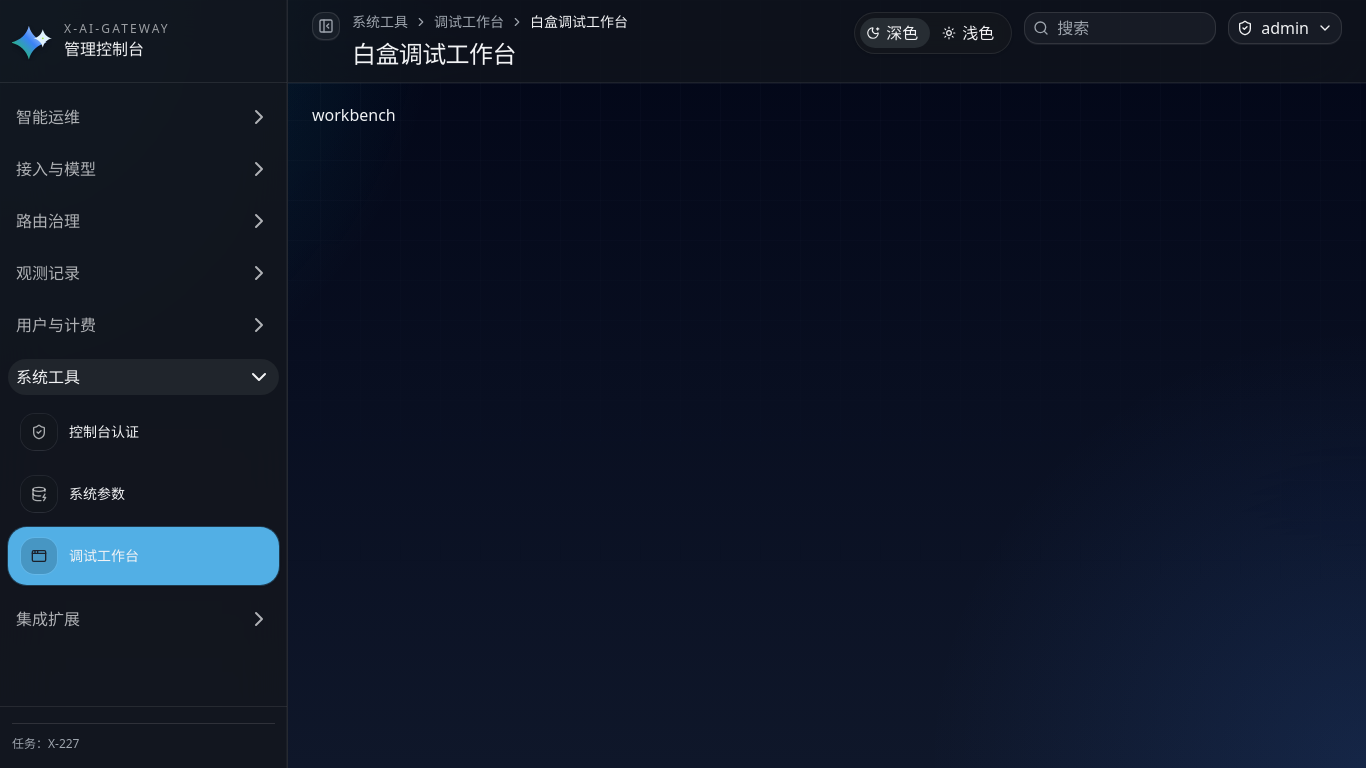
Scenario: AppLayout › opens the command palette with task-oriented console entries
Click the button "搜索" at (1120,28), box [1024,12,1216,44]
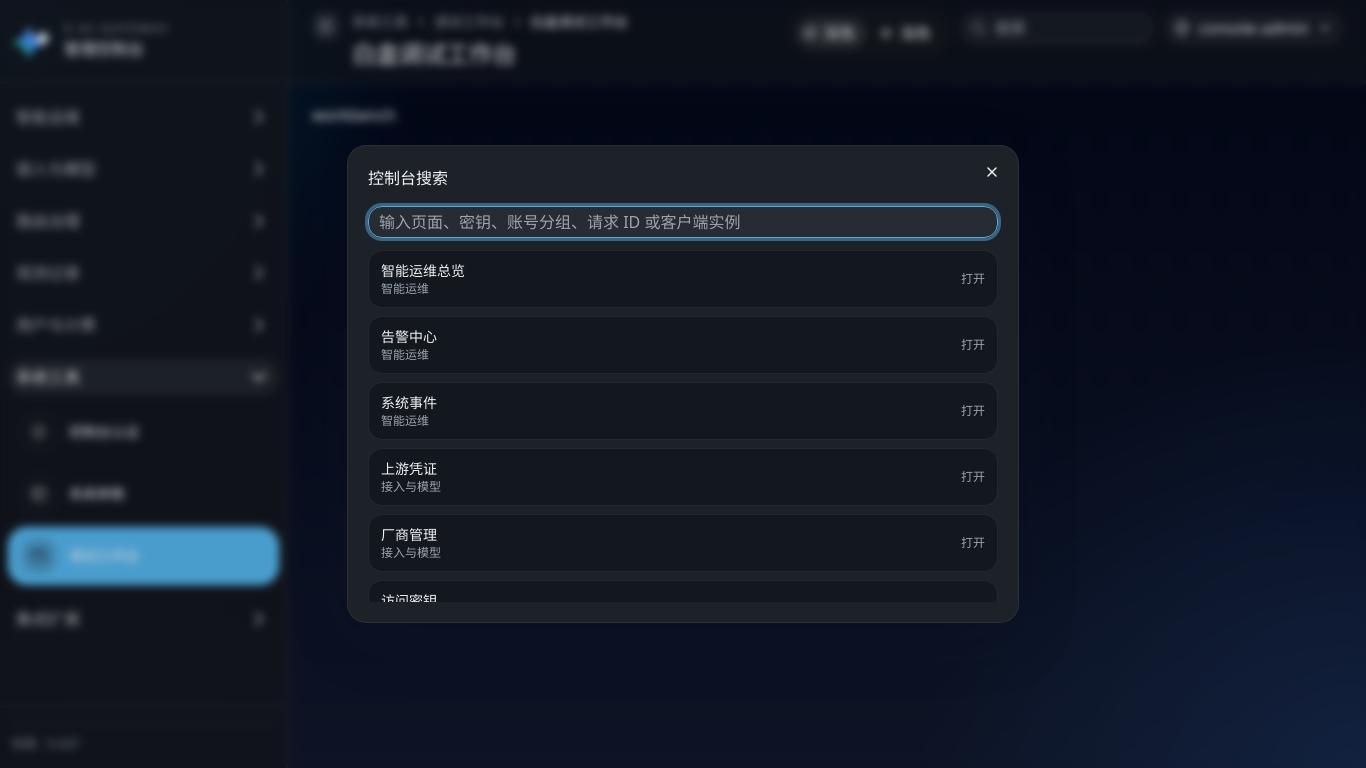
Expected: the dialog is shown, [347,145,1019,623]
Expected: the heading "控制台搜索" is shown, [368,167,448,189]
Type "request" into the field with placeholder "输入页面、密钥、账号分组、请求 ID 或客户端实例" at (683,222), box [368,206,998,238]
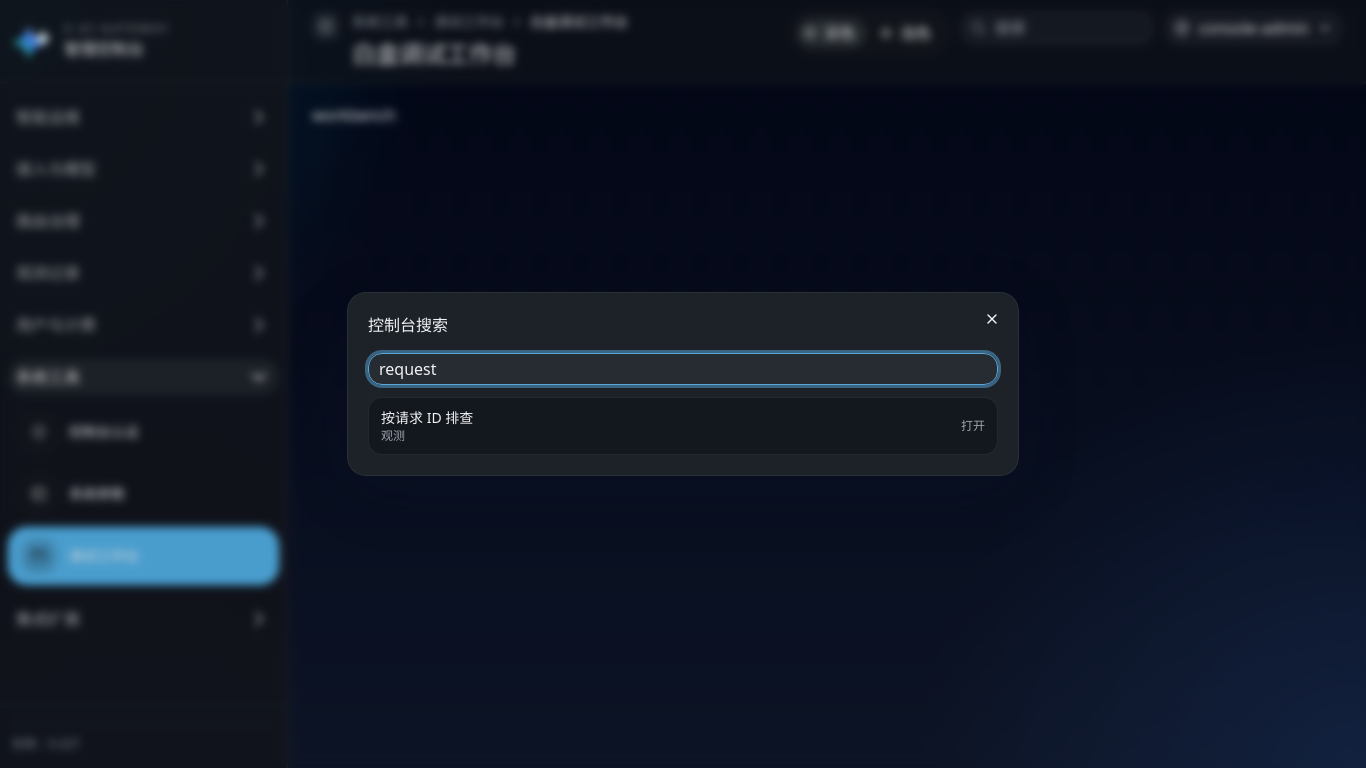
Expected: the text "按请求 ID 排查" is shown, [381,408,473,428]
Expected: the text "观测" is shown, [381,427,405,444]
